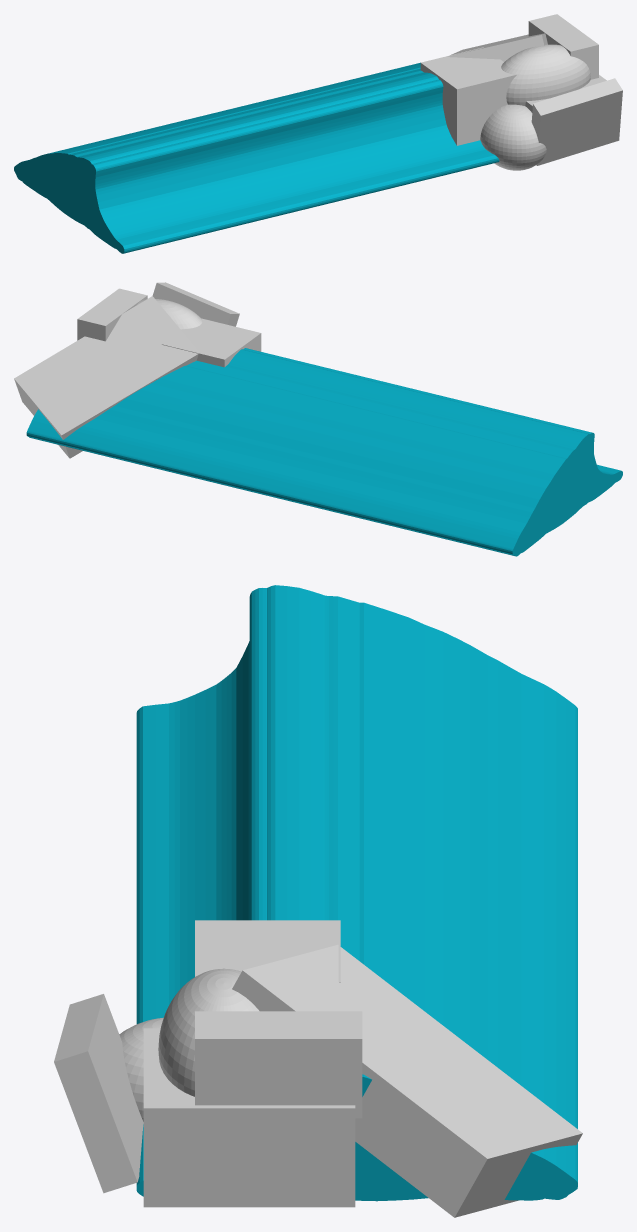
Rendered from Final Wave.glb.
3 renders of one model, top to bottom at view 1: azimuth 30°, elevation 25°; view 2: azimuth 150°, elevation 25°; view 3: azimuth 270°, elevation 25°, orthographic. The views are drawn at different scales.
Parts seen in each view (by area): view 1: Mesh_Mesh_head_geo.001_lambert2SG.001; view 2: Mesh_Mesh_head_geo.001_lambert2SG.001; view 3: Mesh_Mesh_head_geo.001_lambert2SG.001.
Part boxes in pixels (bbox=[...]): Mesh_Mesh_head_geo.001_lambert2SG.001: bbox=[14, 14, 622, 253]; Mesh_Mesh_head_geo.001_lambert2SG.001: bbox=[14, 282, 622, 556]; Mesh_Mesh_head_geo.001_lambert2SG.001: bbox=[54, 585, 582, 1217].
Bounding box in the file's own units: 165 × 32.72 × 72.61.
